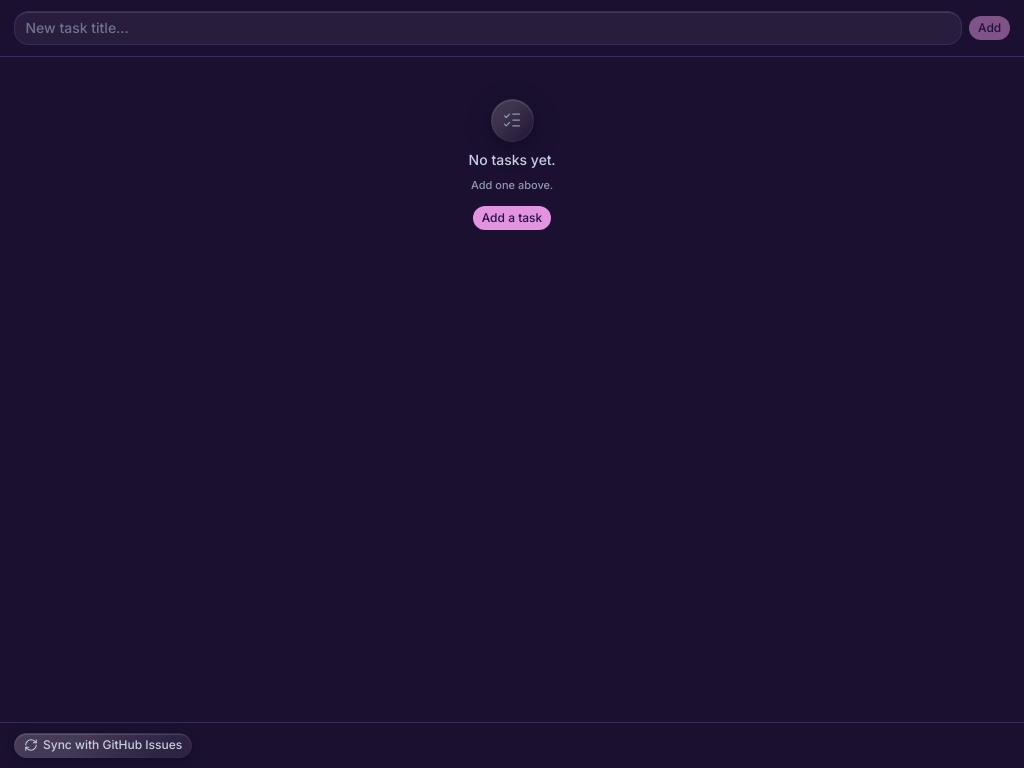
Test: TasksTab — F-045 sync feedback › renders "No new issues" when the sync returns 0
What coordinates should you click on to do the following:
click the button "Sync with GitHub Issues"
I would click on:
 (103, 745)
Its box is [14,733,192,758].
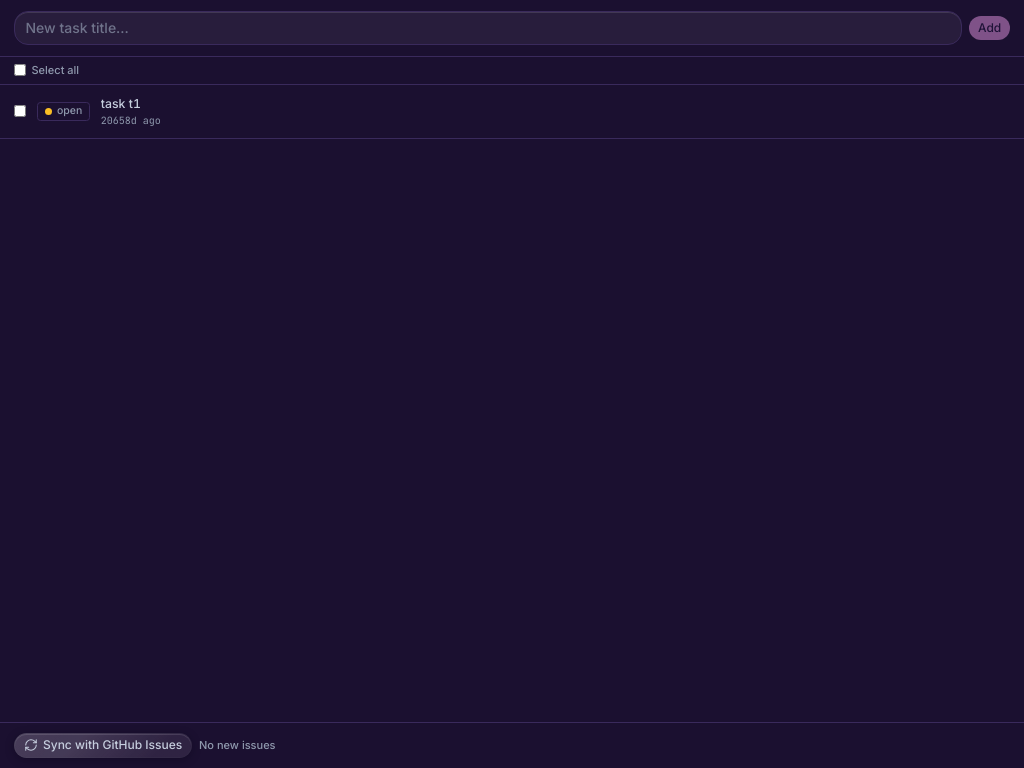
Now the text with test id "tasks-sync-result" reads "No new issues", box [199,738,276,752]
